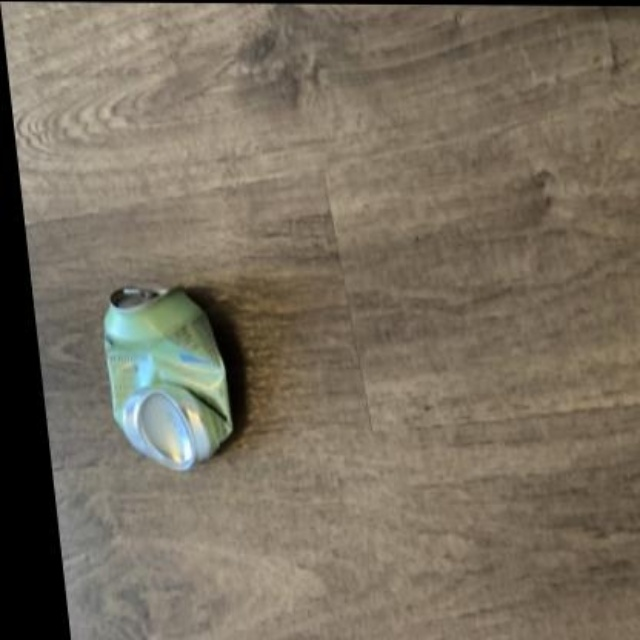trash: (103, 288, 231, 469)
